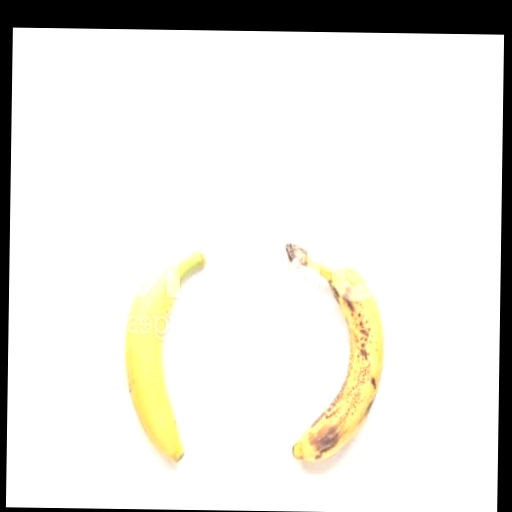fruit: (286, 244, 383, 461), (124, 251, 204, 460)
